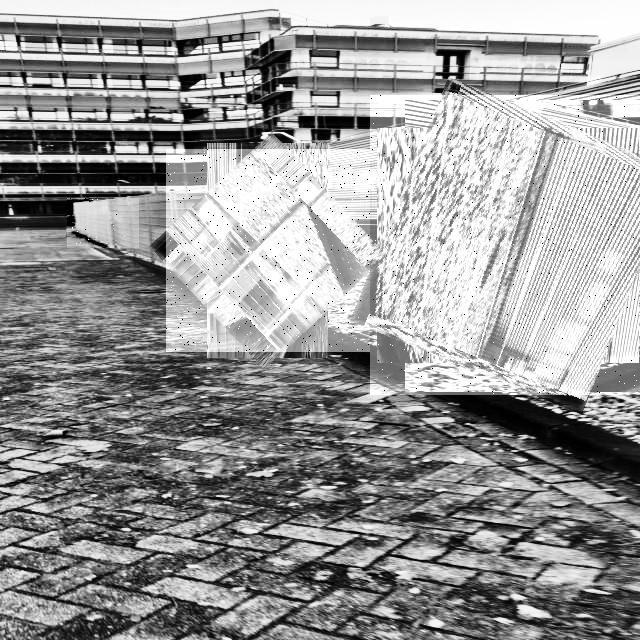fences: (370, 95, 640, 395), (166, 149, 370, 352), (67, 198, 139, 248)
